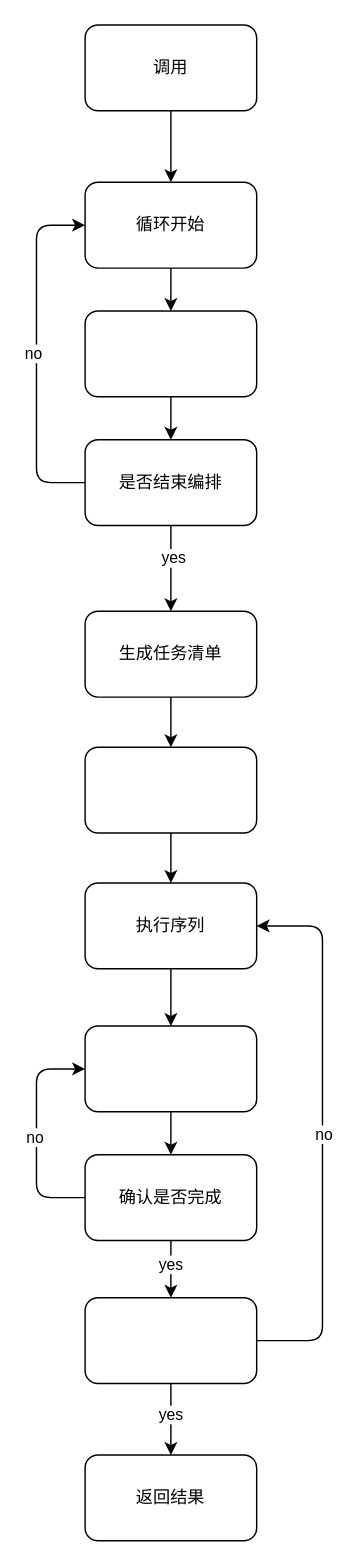
This 359x1566 diagram has some shape labels left out. The shapes that lost their labels are listed below. From the top down, each one's centre as x and y in pixels, then its label:
At pixel 170 353: "获取任务单条".
At pixel 170 789: "载入清单".
At pixel 170 1068: "按顺序载入未完成的任务一条".
At pixel 170 1340: "是否全部完成".
